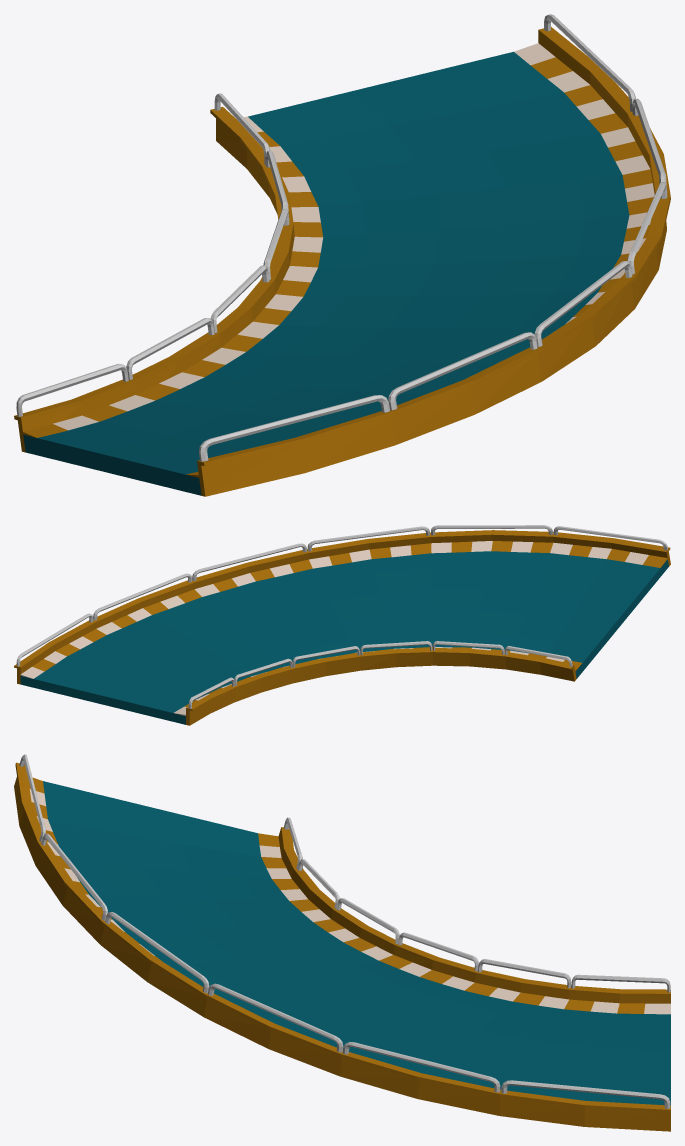
The model's file is curveRight-90-Banked-15.FBX.
3 renders of one model, top to bottom at view 1: azimuth 30°, elevation 25°; view 2: azimuth 150°, elevation 25°; view 3: azimuth 270°, elevation 25°, orthographic. The views are drawn at different scales.
Visible parts, largest first — view 1: curveRight-90-banked-15, wall_l, wall_r, curbs_r, curbs_l; view 2: curveRight-90-banked-15, wall_l, wall_r, curbs_l, curbs_r; view 3: curveRight-90-banked-15, wall_l, wall_r, curbs_r, curbs_l.
Part boxes in pixels (x1=…): curveRight-90-banked-15: x1=23, y1=51, x2=629, y2=495; wall_l: x1=197, y1=14, x2=670, y2=496; wall_r: x1=14, y1=93, x2=294, y2=452; curbs_r: x1=23, y1=116, x2=323, y2=437; curbs_l: x1=186, y1=43, x2=654, y2=477; curveRight-90-banked-15: x1=20, y1=551, x2=668, y2=724; wall_l: x1=14, y1=525, x2=670, y2=684; wall_r: x1=186, y1=641, x2=576, y2=725; curbs_l: x1=20, y1=541, x2=667, y2=678; curbs_r: x1=174, y1=647, x2=582, y2=715; curveRight-90-banked-15: x1=43, y1=781, x2=670, y2=1105; wall_l: x1=14, y1=754, x2=670, y2=1131; wall_r: x1=278, y1=817, x2=670, y2=1003; curbs_r: x1=258, y1=833, x2=670, y2=1014; curbs_l: x1=28, y1=777, x2=161, y2=960.
Size of what is drawn, in the model's own units: 485 by 81.87 by 477.
